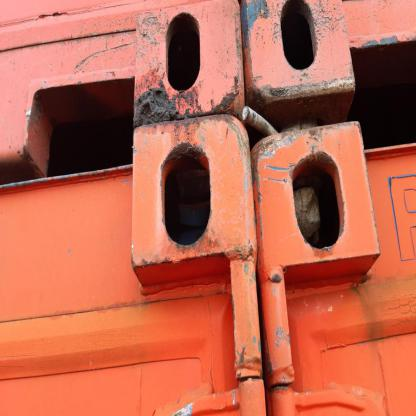CornerCasting: (256, 114, 371, 290), (131, 124, 254, 271), (245, 0, 357, 111), (130, 5, 243, 113)
